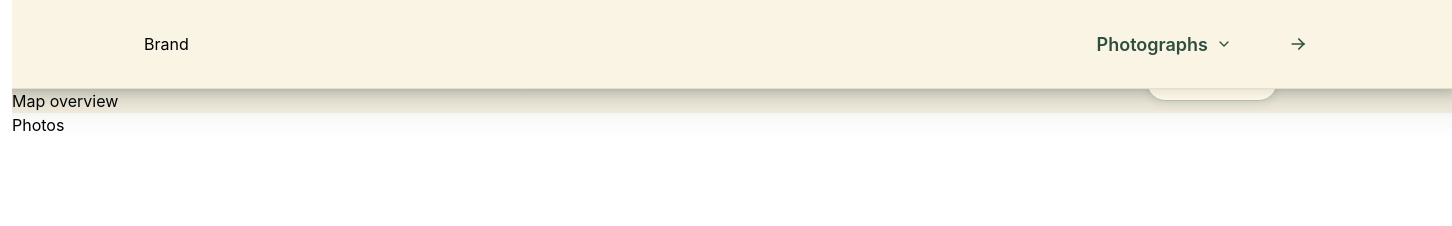
Scenario: keeps contextual navigation available when jumping back to the map overview
Later steps or results of the test are not shown.
Press ArrowDown in the button "Photographs", box [1096,22,1232,66]
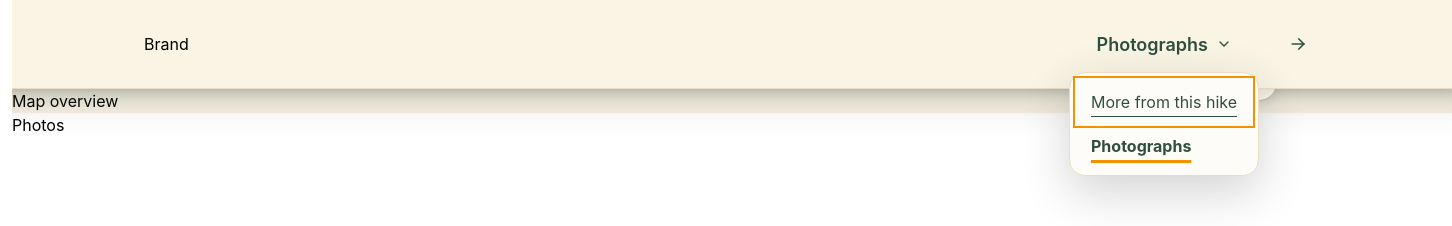
Click the menu item "More from this hike" at (1164, 102), box [1091,92,1237,112]
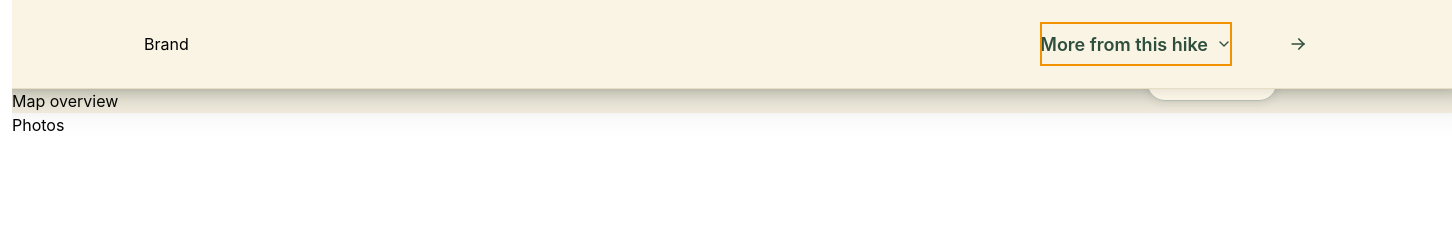
Now the menu is gone
